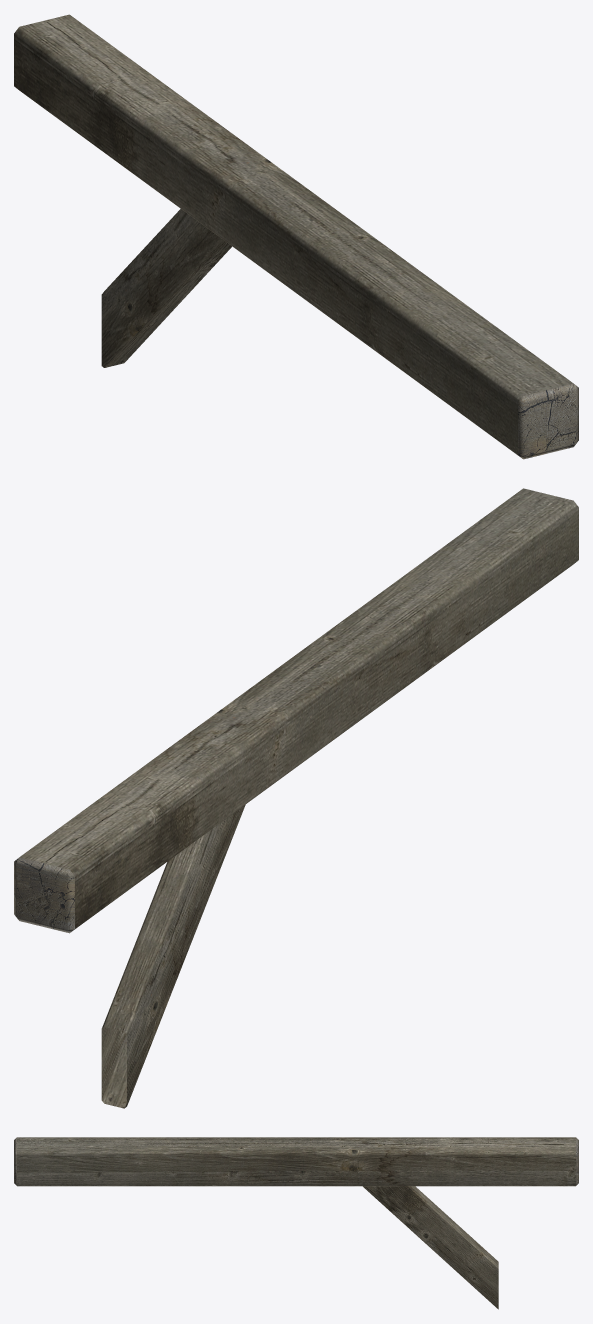
Rendered from Porch_beam2.fbx.
The picture shows the model from 3 angles, top to bottom: view 1: azimuth 30°, elevation 25°; view 2: azimuth 150°, elevation 25°; view 3: azimuth 270°, elevation 25°; orthographic projection. The views are drawn at different scales.
Parts seen in each view (by area): view 1: polySurface174; view 2: polySurface174; view 3: polySurface174.
Part boxes in pixels (x1,y1,x2,y2): polySurface174: (14, 14, 578, 459); polySurface174: (14, 488, 578, 1108); polySurface174: (14, 1137, 578, 1309).
Size of the model in its own units: 14.19 by 65.46 by 206.
1 material, 1 textured.
